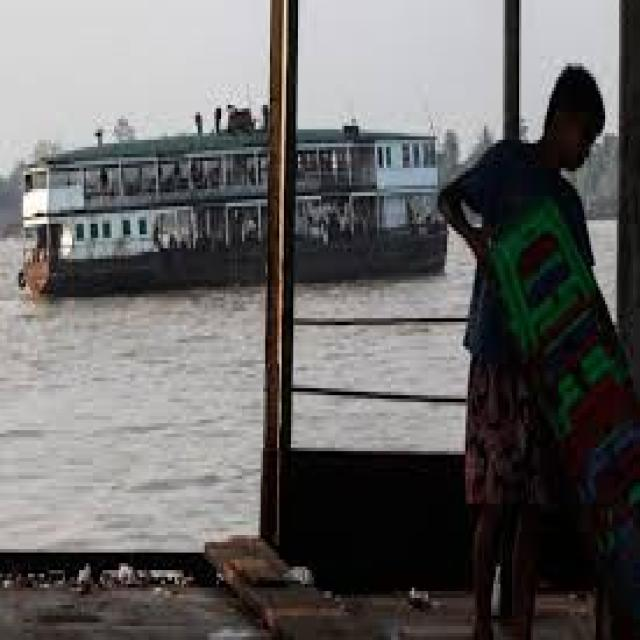passenger ship: (38, 101, 470, 344)
